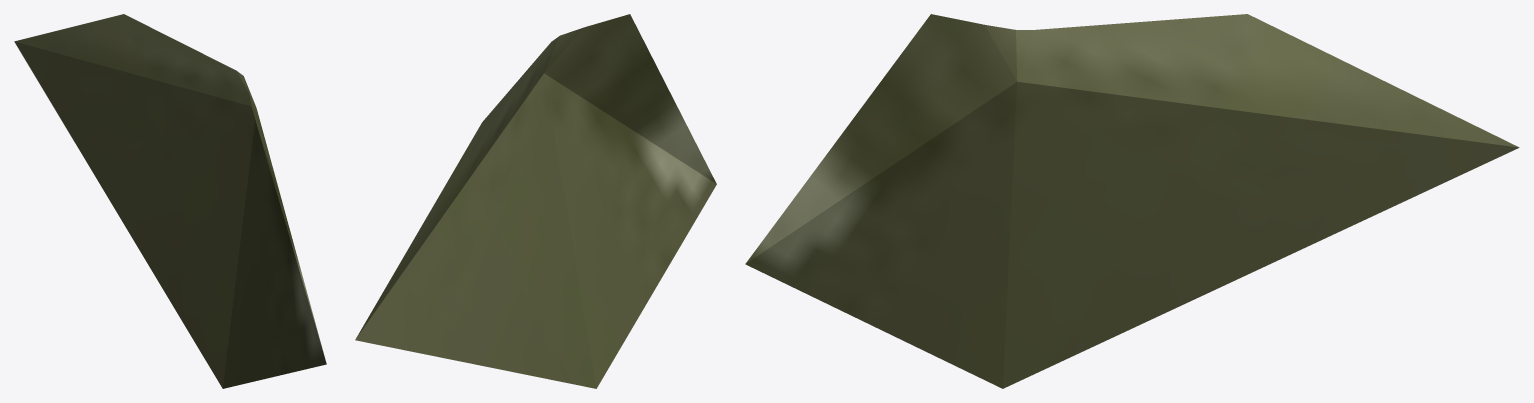
3 views of the same model, side by side, from view 1: azimuth 30°, elevation 25°; view 2: azimuth 150°, elevation 25°; view 3: azimuth 270°, elevation 25° (orthographic). The views are drawn at different scales.
Size of the model in its own units: 0.0298 by 0.2181 by 0.4083.
Materials: 1 (1 with a texture image).
